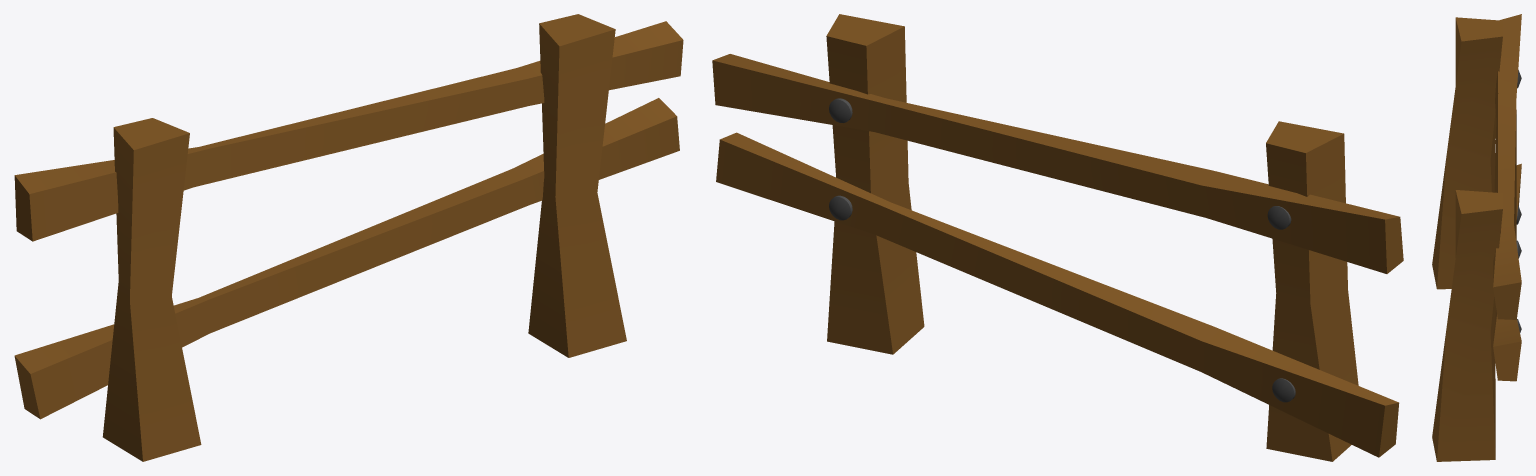
File: Fence.fbx
3 renders of one model, left to right at view 1: azimuth 30°, elevation 25°; view 2: azimuth 150°, elevation 25°; view 3: azimuth 270°, elevation 25°, orthographic. The views are drawn at different scales.
Visible parts, largest first — view 1: pCylinder7; view 2: pCylinder7; view 3: pCylinder7.
Boxes of the visible parts, x1,y1,x2,y2 form: pCylinder7: [14, 14, 683, 461]; pCylinder7: [712, 14, 1403, 461]; pCylinder7: [1432, 14, 1521, 461].
Bounding box in the file's own units: 15 × 6.6 × 2.15.
